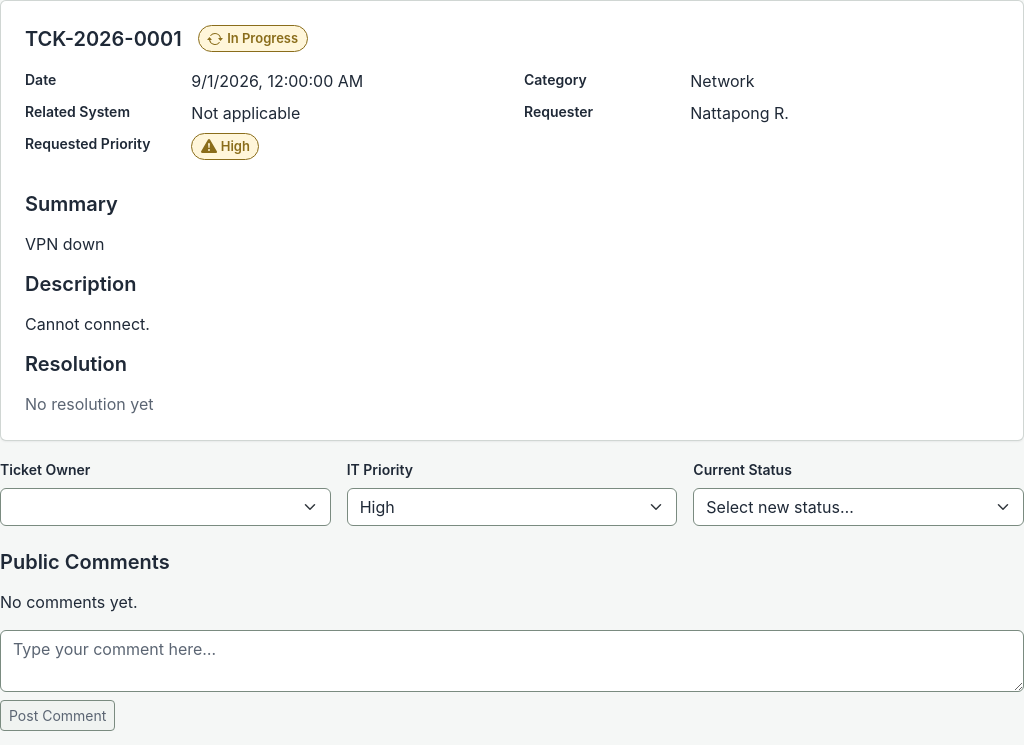
it: Staff status change: resolution gate message (FR-06, ui-spec section 4) › CMP-16 shows the directed message, not the raw error, for RESOLUTION_REQUIRES_ACTION_TAKEN
The image size is (1024, 745).
Select "Resolved" in the dropdown labelled "Current Status" at coordinates (859, 507), box [693,488,1023,526]
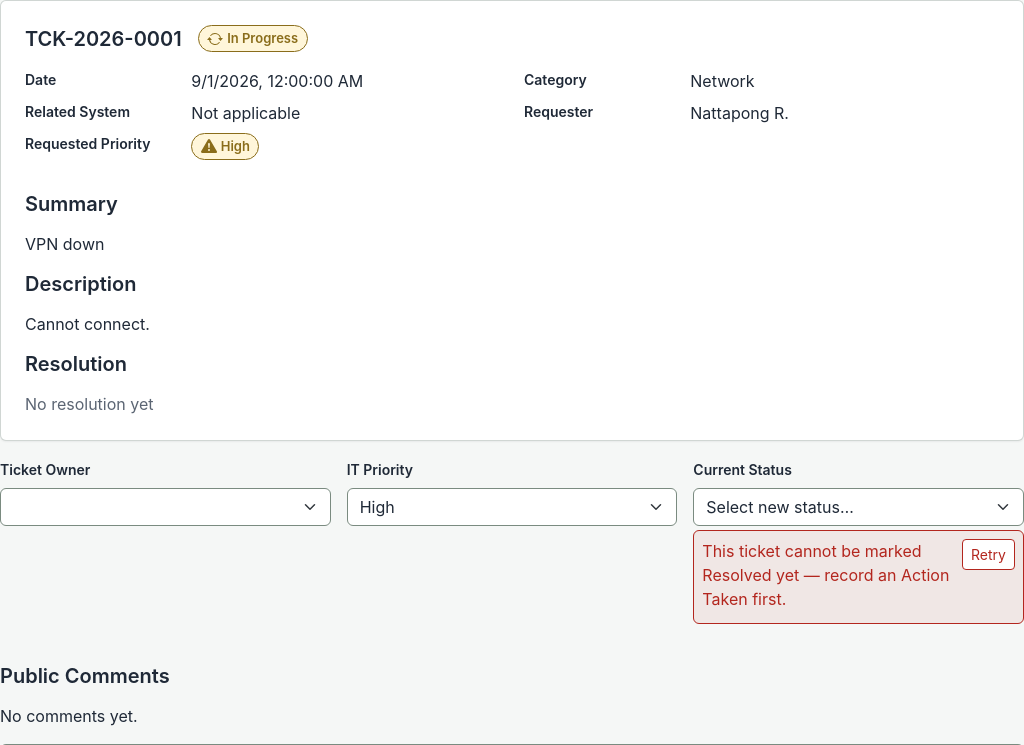
Expected: the element with test id "ticket-status-badge" reads "In Progress", [227,30,298,46]
Now the text "This ticket cannot be marked Resolved yet — record an Action Taken first." is shown, box [702,539,954,611]
